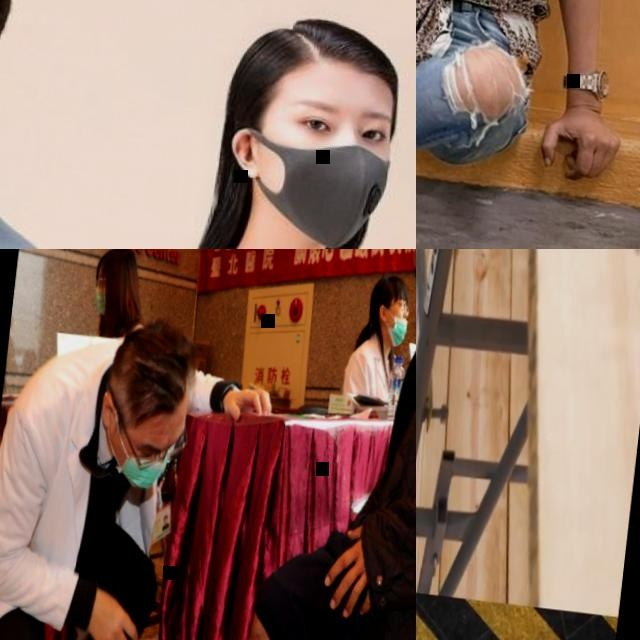Mask: (223, 123, 394, 249), (121, 453, 172, 490), (387, 313, 410, 348), (90, 286, 109, 313)
NO-Hardhat: (229, 0, 407, 102), (110, 315, 198, 429), (93, 249, 139, 282), (367, 270, 409, 302)
NO-Safety Vest: (16, 326, 146, 579), (352, 336, 401, 399)
Person: (155, 249, 416, 640), (0, 302, 278, 640), (77, 0, 416, 249), (416, 0, 640, 249), (0, 0, 197, 249), (340, 265, 416, 406), (84, 249, 152, 339)
